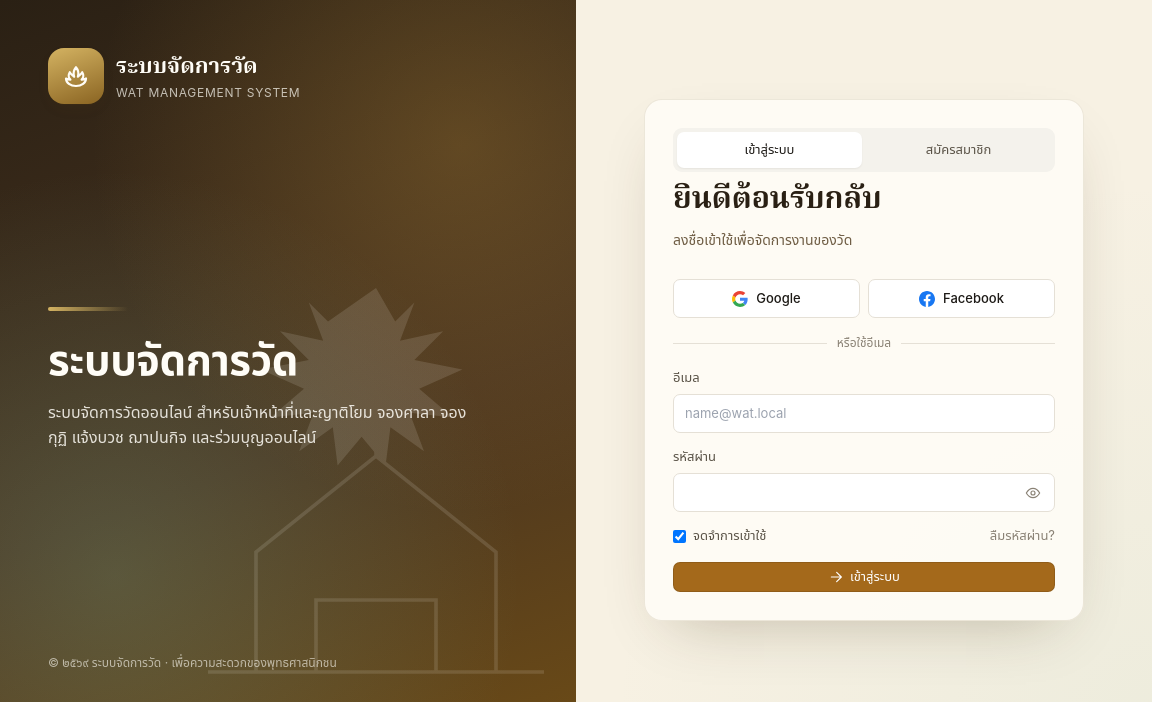
Test: LoginScreen — register/social flows › signup is temple-only (no donor self-service account type)
The image size is (1152, 702).
Click the tab "สมัครสมาชิก": (958, 150) [866, 132, 1051, 168]
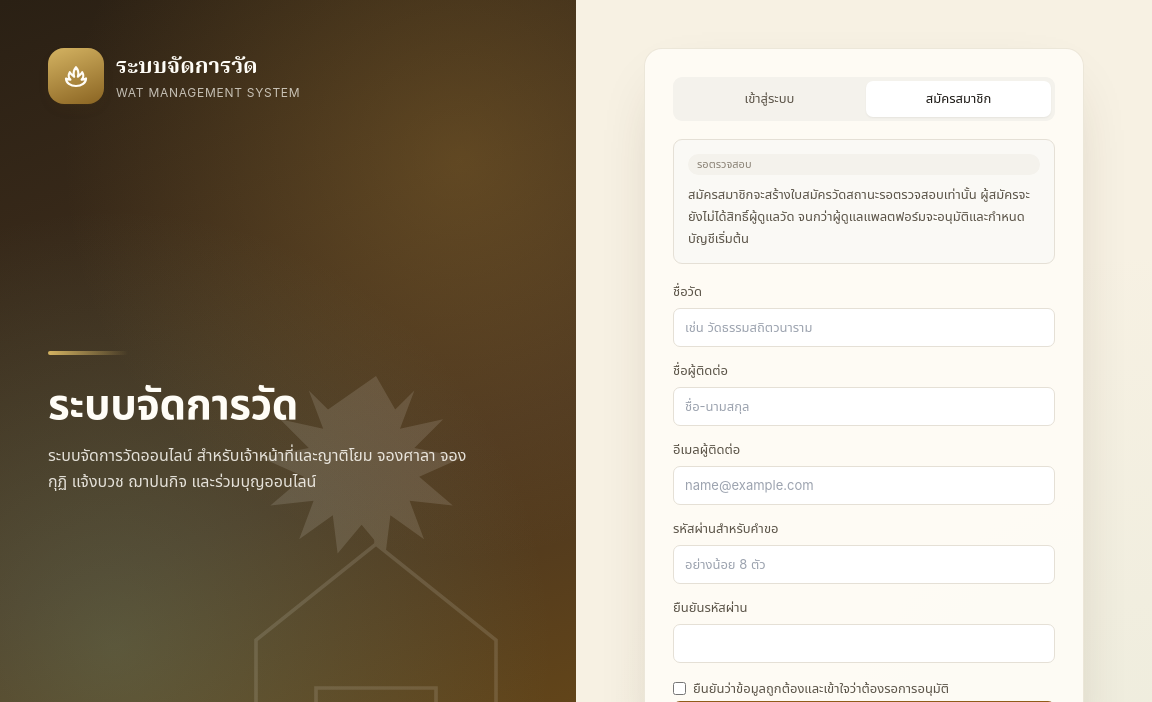
Check: the field with id "register-temple" is shown, box [673, 308, 1055, 347]
